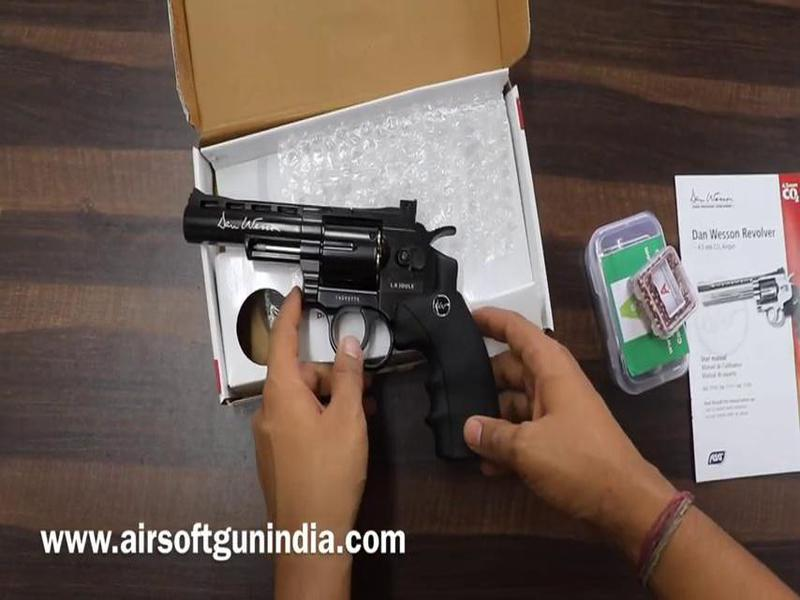Revolver: (183, 179, 505, 374)
